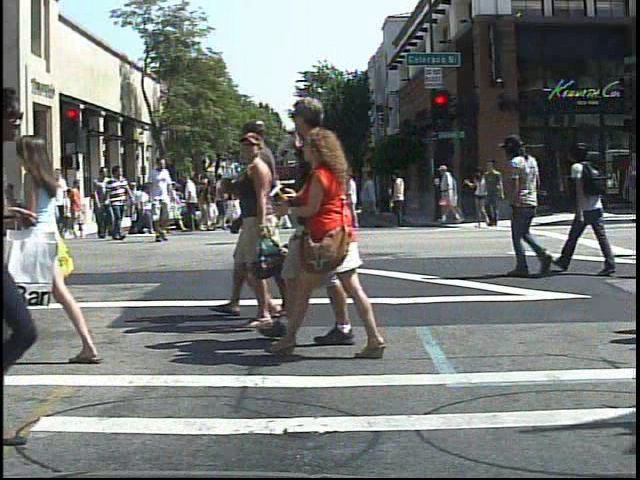person: (262, 90, 386, 345), (4, 119, 106, 371), (284, 118, 390, 357), (561, 130, 625, 281), (501, 126, 559, 282), (144, 159, 179, 244), (103, 161, 133, 241), (44, 166, 74, 245), (87, 164, 114, 242), (438, 161, 463, 225), (21, 183, 45, 243), (91, 182, 111, 221)
